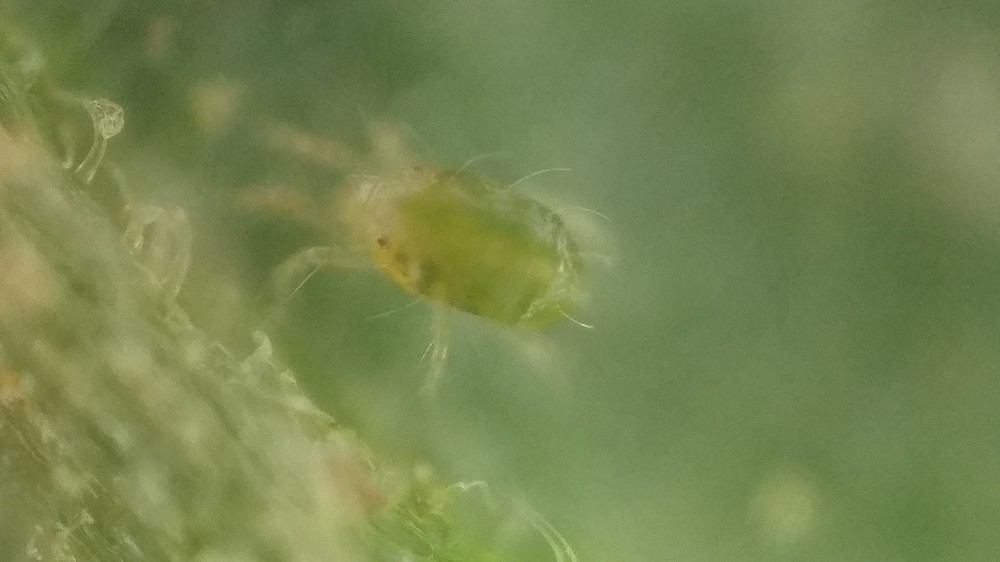Aracnido Rojo: (239, 95, 627, 395)
